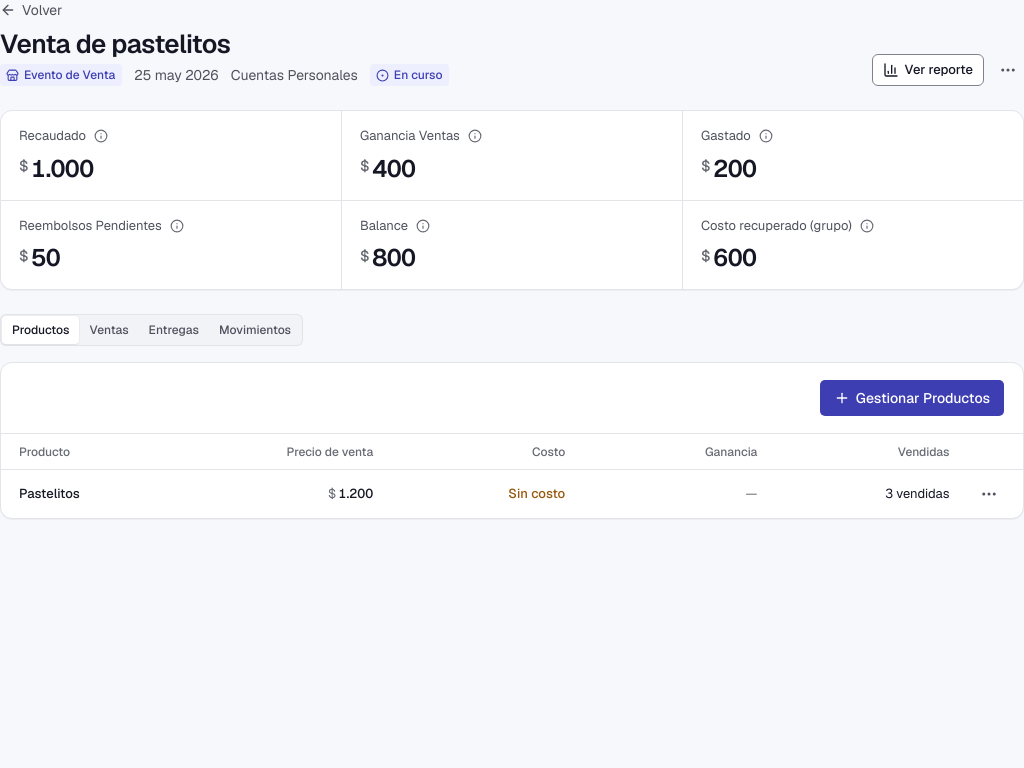
Test: EventoDetailView › cada KPI explica qué representa con su ⓘ
Check: the button named "Qué significa Recaudado" is shown, box [92, 127, 110, 145]
Check: the button named "Qué significa Ganancia Ventas" is shown, box [466, 127, 484, 145]
Click the button named "Qué significa Gastado": (766, 136) [757, 127, 775, 145]
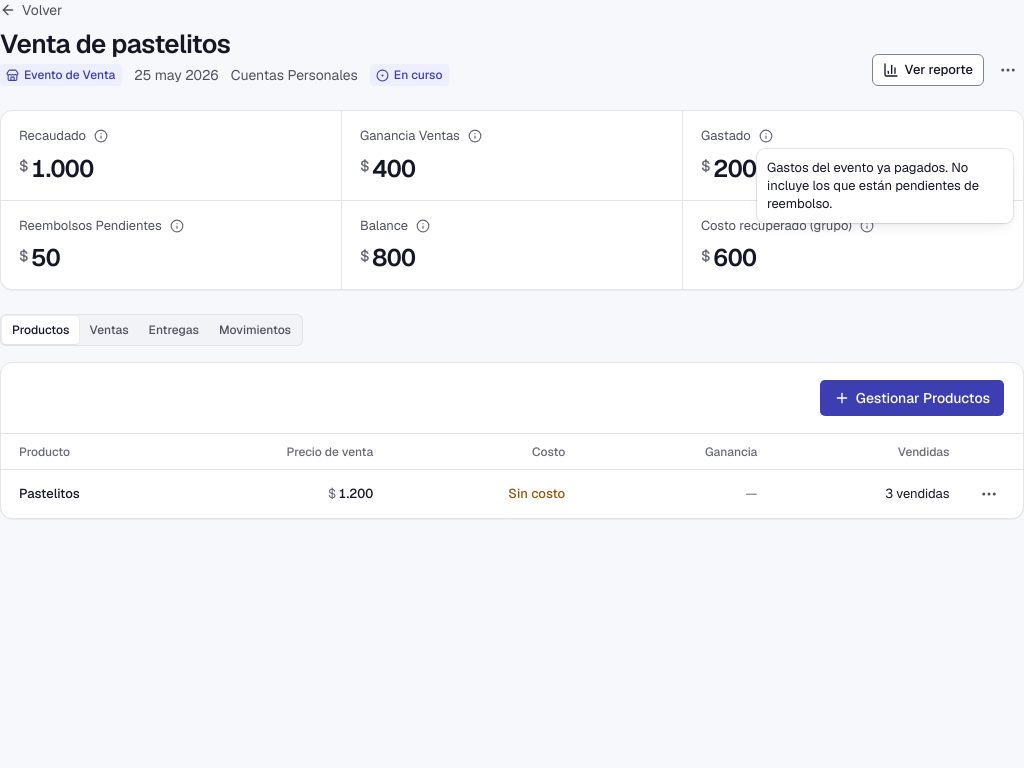
Check: the text "Gastos del evento ya pagados" is shown, box [767, 159, 979, 212]
